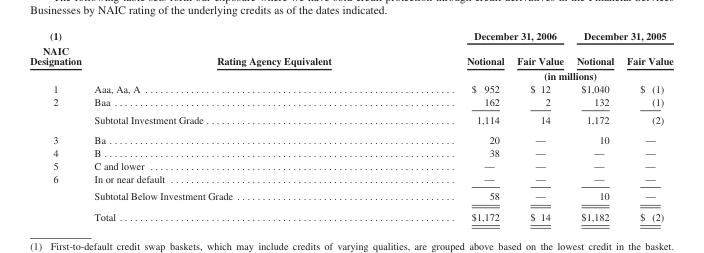table: (29, 29, 672, 222)
table column: (87, 29, 398, 222), (398, 29, 509, 222), (509, 29, 569, 222), (29, 29, 87, 222), (619, 29, 672, 222), (569, 29, 619, 222)
table column header: (29, 29, 672, 82)
table row: (29, 47, 672, 68), (29, 110, 672, 129), (29, 187, 672, 206), (29, 29, 672, 47), (29, 129, 672, 146), (29, 171, 672, 187), (29, 206, 672, 222), (29, 95, 672, 110), (29, 68, 672, 82), (29, 82, 672, 95), (29, 158, 672, 171), (29, 146, 672, 158)
table spanning cell: (87, 29, 398, 82), (398, 68, 672, 82), (398, 29, 569, 47), (29, 29, 87, 82), (29, 171, 87, 222), (29, 95, 87, 129), (569, 29, 672, 47)
